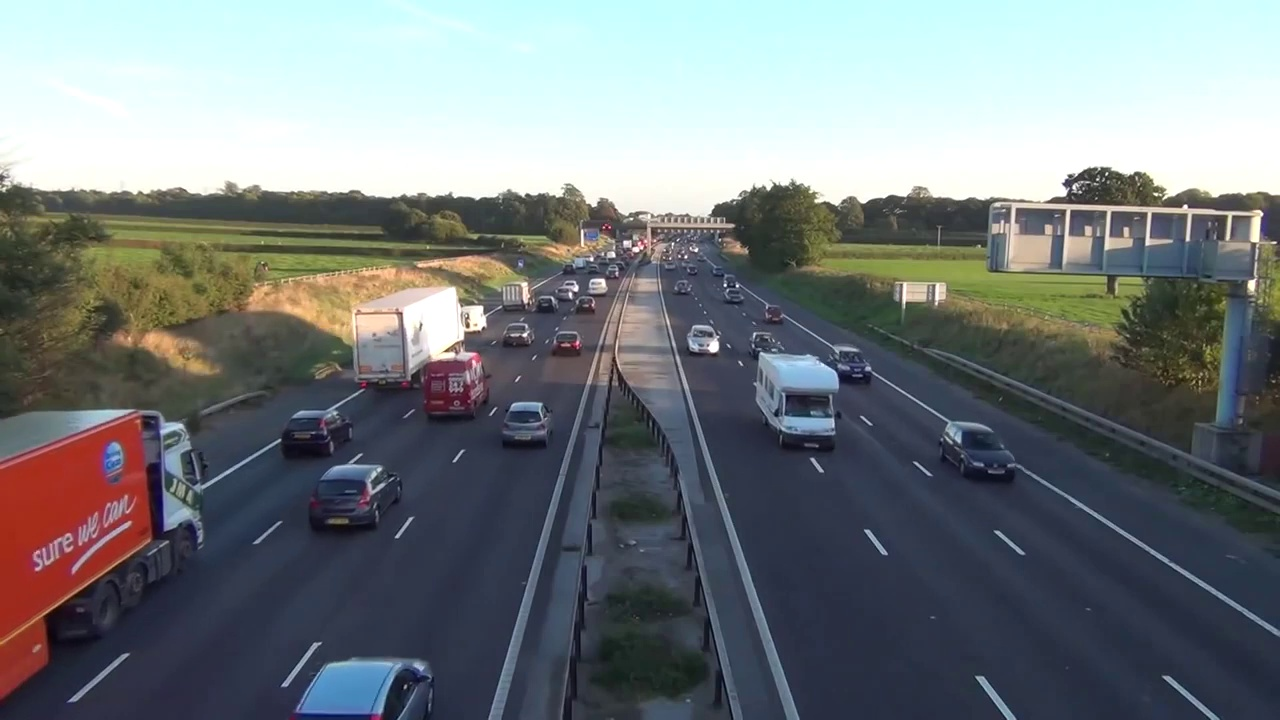bus: (294, 653, 433, 720), (308, 463, 402, 529), (938, 418, 1018, 485), (284, 406, 355, 461), (502, 400, 552, 448), (828, 341, 869, 384), (687, 323, 720, 356), (748, 333, 781, 361), (551, 331, 584, 355), (502, 324, 535, 347), (763, 306, 786, 327), (575, 298, 597, 313), (535, 297, 557, 311)
car: (2, 409, 208, 712), (352, 287, 462, 386), (503, 282, 531, 310)
lorry: (462, 304, 489, 335)
minibus: (756, 355, 836, 454), (428, 352, 490, 420)
